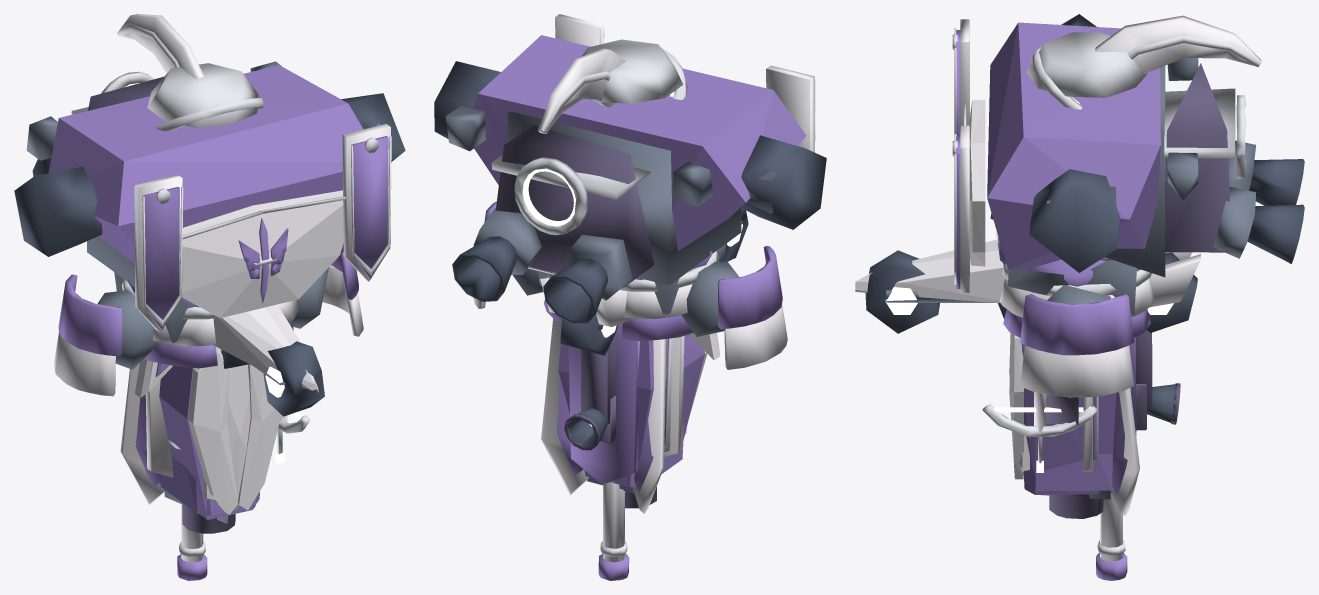
The model's file is longbow-lod2.glb.
3 views of the same model, side by side, from view 1: azimuth 30°, elevation 25°; view 2: azimuth 150°, elevation 25°; view 3: azimuth 270°, elevation 25° (orthographic). The views are drawn at different scales.
Visible parts, largest first — view 1: chest/chest/P, chest/chest/S, kneeL/shins/S, chest/chest/T, chest/chest/D, hips/hips/P, hips/hips/K, ankleL/feet/S, hips/hips/S, kneeL/shins/P, ankleL/feet/D, hipL/thighs/S (+17 smaller); view 2: chest/chest/P, chest/backpack/F, chest/chest/K, chest/chest/D, chest/backpack/K, chest/backpack/D, hipL/thighs/P, chest/chest/T, chest/backpack/T, chest/chest/S, hips/hips/P, hips/hips/K (+21 smaller); view 3: chest/chest/P, chest/backpack/F, chest/chest/D, chest/chest/T, hips/hips/P, ankleL/feet/S, chest/chest/S, hips/hips/S, chest/backpack/D, chest/backpack/K, head/head/S, ankleL/feet/D (+22 smaller).
Boxes of the visible parts, x1=… form: chest/chest/P: x1=48, y1=65, x2=388, y2=329; chest/chest/S: x1=134, y1=124, x2=390, y2=332; kneeL/shins/S: x1=188, y1=346, x2=281, y2=514; chest/chest/T: x1=142, y1=63, x2=391, y2=326; chest/chest/D: x1=14, y1=93, x2=405, y2=256; hips/hips/P: x1=58, y1=243, x2=358, y2=356; hips/hips/K: x1=97, y1=267, x2=328, y2=369; ankleL/feet/S: x1=213, y1=304, x2=318, y2=392; hips/hips/S: x1=54, y1=265, x2=363, y2=396; kneeL/shins/P: x1=159, y1=366, x2=255, y2=519; ankleL/feet/D: x1=221, y1=341, x2=324, y2=416; hipL/thighs/S: x1=203, y1=348, x2=250, y2=511; chest/chest/P: x1=473, y1=35, x2=806, y2=250; chest/backpack/F: x1=495, y1=125, x2=653, y2=288; chest/chest/K: x1=451, y1=98, x2=775, y2=285; chest/chest/D: x1=434, y1=61, x2=826, y2=229; chest/backpack/K: x1=445, y1=106, x2=713, y2=300; chest/backpack/D: x1=452, y1=236, x2=608, y2=323; hipL/thighs/P: x1=568, y1=323, x2=684, y2=487; chest/chest/T: x1=582, y1=29, x2=815, y2=152; chest/backpack/T: x1=491, y1=155, x2=651, y2=235; chest/chest/S: x1=555, y1=14, x2=814, y2=151; hips/hips/P: x1=484, y1=201, x2=782, y2=329; hips/hips/K: x1=513, y1=243, x2=739, y2=336; chest/chest/P: x1=956, y1=22, x2=1160, y2=289; chest/backpack/F: x1=1165, y1=63, x2=1232, y2=252; chest/chest/D: x1=1029, y1=14, x2=1119, y2=272; chest/chest/T: x1=952, y1=28, x2=1146, y2=284; hips/hips/P: x1=1020, y1=294, x2=1134, y2=355; ankleL/feet/S: x1=855, y1=239, x2=1200, y2=307; chest/chest/S: x1=960, y1=19, x2=985, y2=292; hips/hips/S: x1=1020, y1=345, x2=1134, y2=397; chest/backpack/D: x1=1247, y1=159, x2=1304, y2=263; chest/backpack/K: x1=1167, y1=58, x2=1256, y2=258; head/head/S: x1=1095, y1=15, x2=1261, y2=74; ankleL/feet/D: x1=865, y1=250, x2=1197, y2=333.
Size of the model in its own units: 3.41 by 5 by 3.65.
